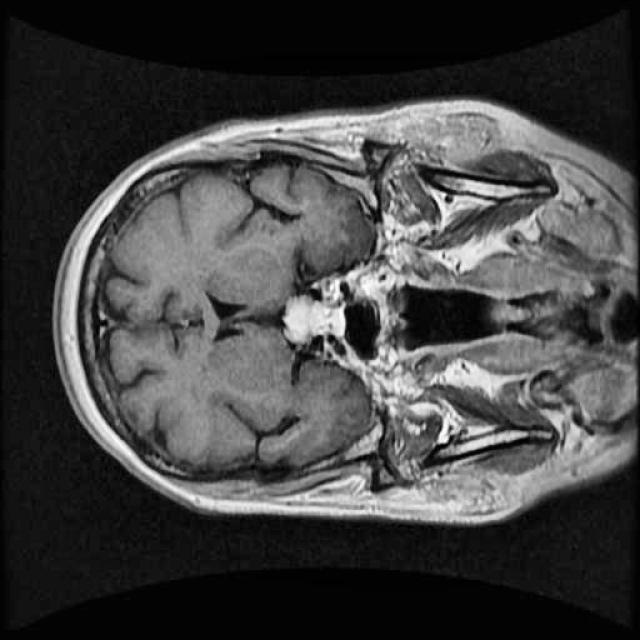Tumor: (262, 279, 362, 365)
